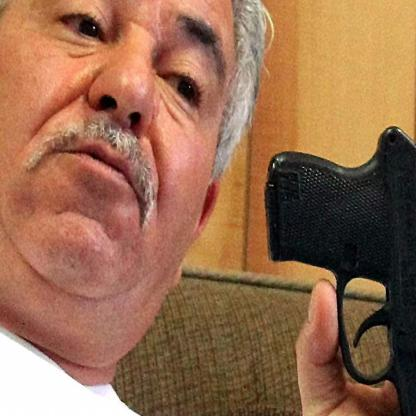gun: (254, 111, 416, 415)
